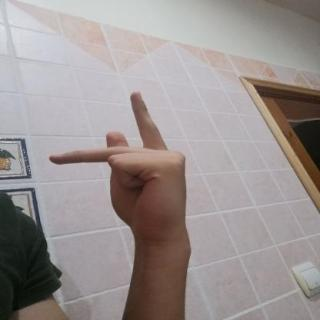DHAA: (38, 81, 198, 247)
